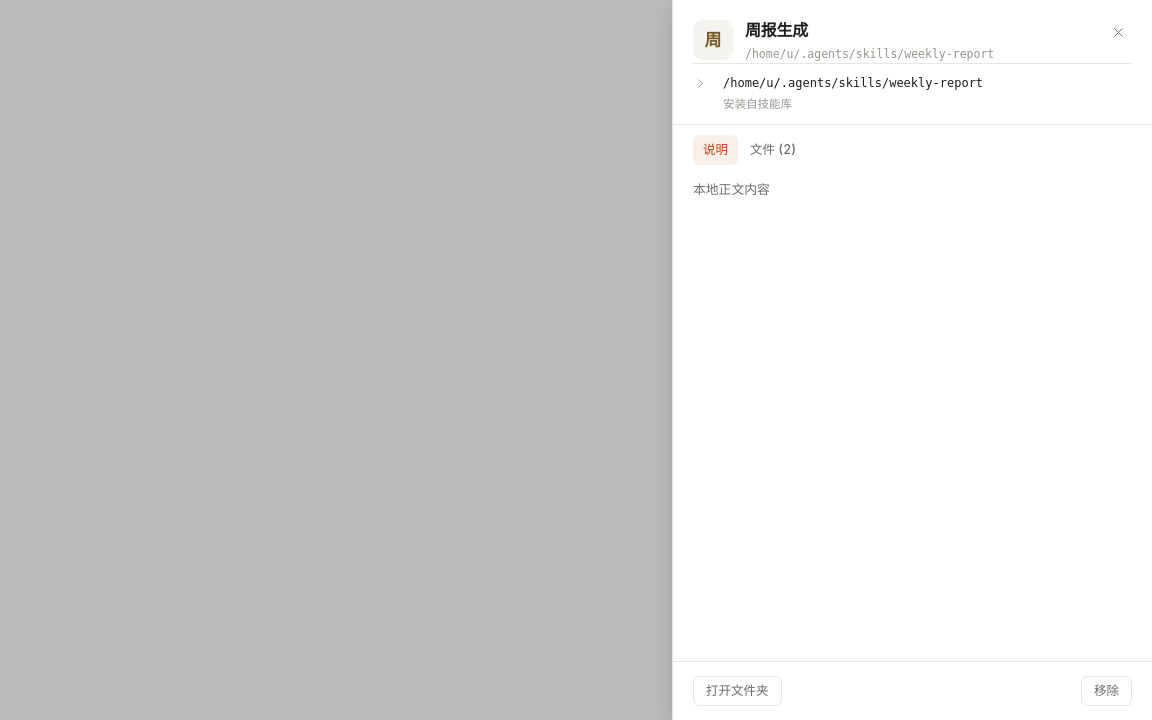
DetailPanel(本地详情模式) › 「我的技能」详情(本地模式)里,装过项目时也能看到第四块「项目里」(Q46-A 的直接后果)
Click the button with test id "where-toggle" at (853, 83), box [693,63,1132,124]
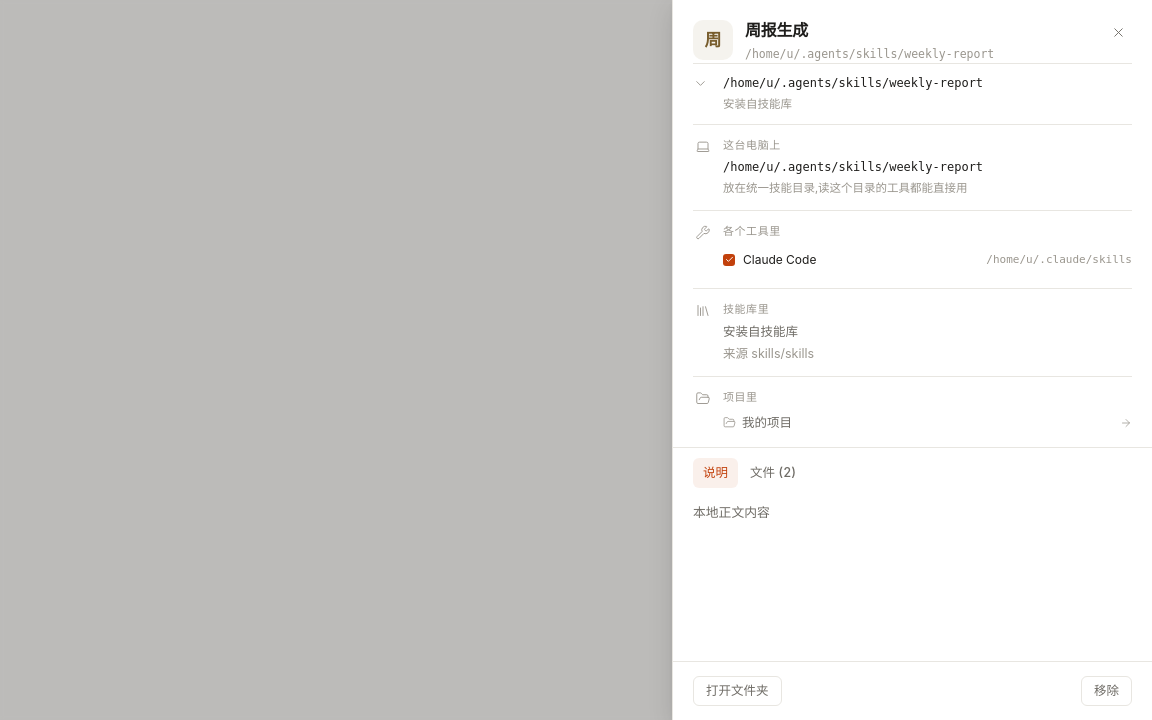
Now the elements with test id "where-title" read "这台电脑上", "各个工具里", "技能库里", "项目里", in this order, box [723,138,781,152]; [723,224,781,238]; [723,302,769,316]; [723,390,758,404]
Now the button "我的项目" is shown, box [723,411,1132,435]
